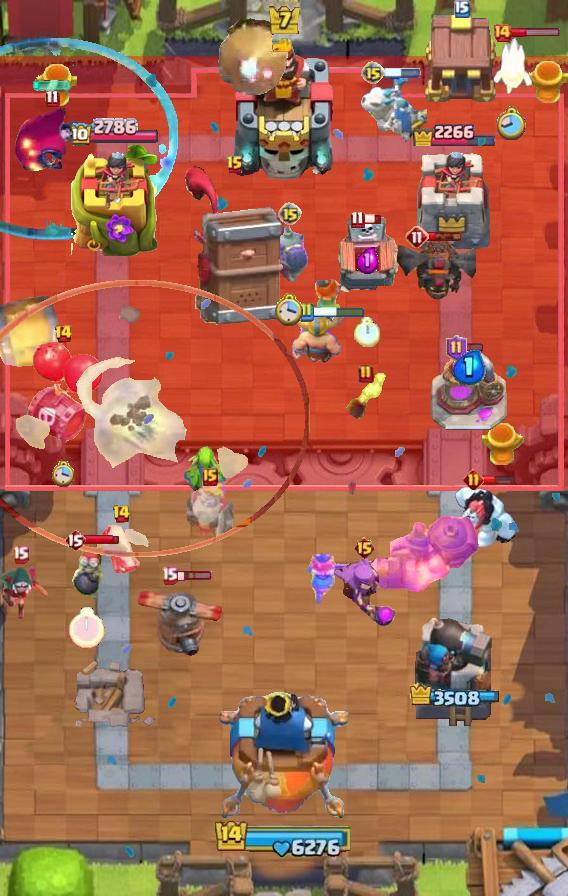archer-evolution: (392, 237, 476, 303)
bat: (492, 37, 532, 95)
bomb: (422, 11, 502, 105)
bomber: (344, 373, 388, 419)
clock: (214, 818, 354, 858)
dark-prince: (135, 572, 223, 656)
dart-goblin: (185, 165, 285, 327)
dirt: (0, 290, 68, 374)
electro-spirit: (454, 350, 487, 385), (356, 246, 379, 274)
elixir: (69, 607, 105, 649), (497, 106, 527, 142), (275, 291, 305, 325), (354, 317, 380, 347), (52, 461, 75, 488)
elixir-golem-mid: (332, 215, 402, 301)
emote: (311, 305, 364, 318), (510, 26, 562, 37), (175, 570, 212, 582), (84, 534, 120, 546), (426, 231, 462, 242), (482, 474, 515, 486), (383, 68, 421, 78), (362, 213, 382, 225), (464, 343, 484, 354)
giant: (99, 521, 143, 577)
goblin-ball: (271, 217, 309, 285)
goblin-giant: (289, 312, 345, 366)
hog-rider: (305, 552, 353, 606), (310, 274, 348, 326)
ice-golem: (69, 545, 105, 601)
ice-spirit: (32, 79, 72, 91)
inferno-tower: (13, 104, 91, 176)
king-tower: (219, 692, 349, 826), (228, 35, 340, 181)
mini-pekka: (357, 72, 427, 144)
mortar-evolution: (184, 477, 236, 545)
pad_0: (0, 37, 178, 241)
pekka: (430, 350, 508, 432)
queen-tower: (71, 144, 157, 255), (410, 144, 496, 255)
rage: (454, 485, 520, 549)
rascal-girl: (330, 555, 398, 629)
royal-ghost: (0, 280, 310, 557)
royal-recruit-evolution: (22, 341, 104, 447)
selected: (68, 118, 159, 148), (410, 117, 496, 146), (407, 683, 499, 709)
tesla: (0, 564, 50, 622)
text: (361, 61, 385, 85), (278, 202, 302, 226), (405, 225, 429, 249), (352, 536, 375, 560), (446, 335, 467, 361), (64, 528, 86, 552), (463, 469, 485, 490), (492, 23, 512, 43), (54, 324, 74, 344), (113, 504, 132, 524), (226, 155, 244, 175), (11, 545, 28, 564), (298, 302, 314, 322), (358, 364, 374, 384), (162, 567, 179, 585), (454, 0, 470, 18), (202, 468, 218, 486), (351, 211, 366, 230), (44, 89, 59, 107)
tower-bar: (410, 611, 496, 731)
wizard: (356, 515, 480, 593)
x-bow: (217, 16, 303, 98)
zap: (180, 444, 230, 492)
